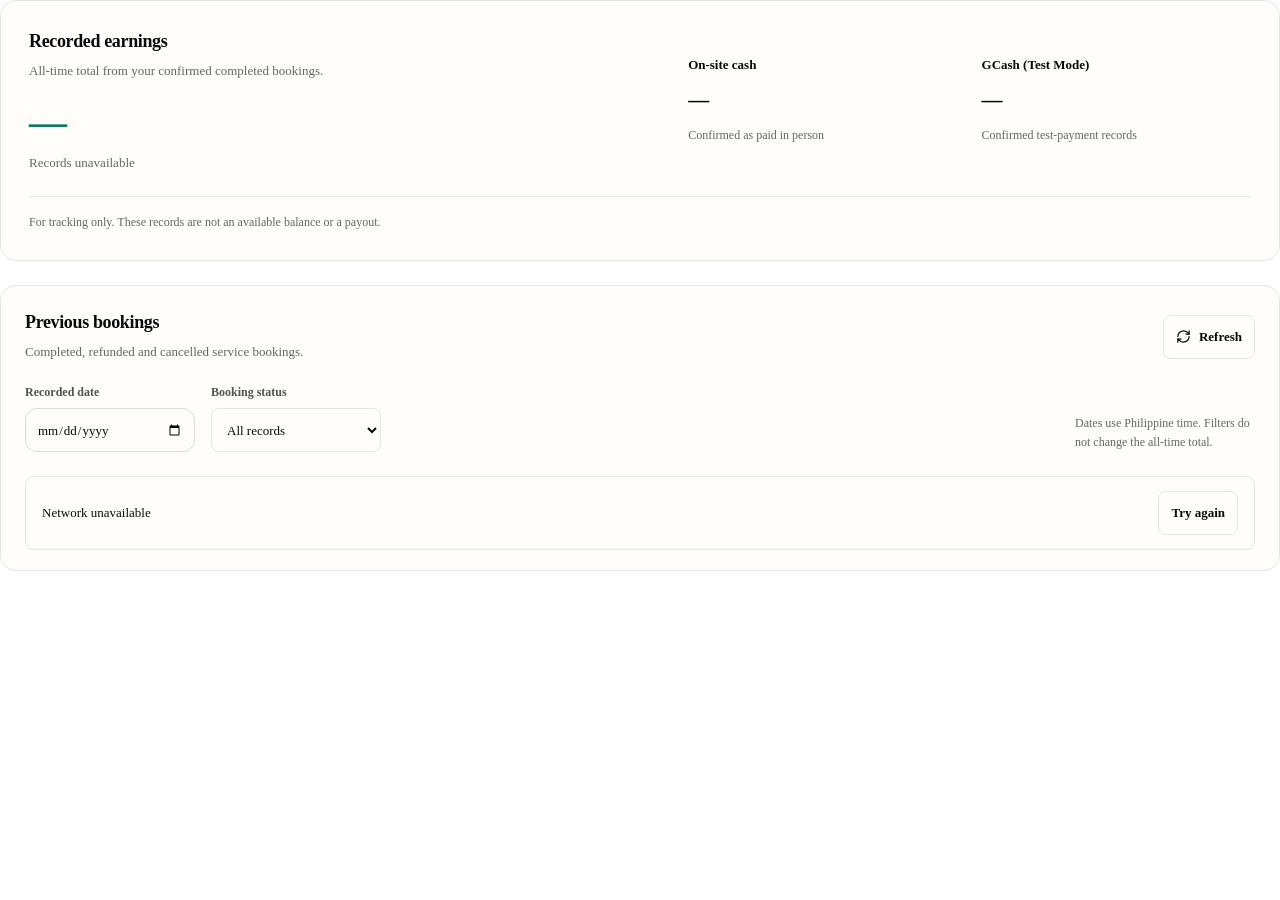
Provider payment records › reports an initial API failure and supports retry without claiming empty history
Expected: the message "Network unavailable Try again" is shown, [25, 476, 1255, 550]
Expected: the text "₱0.00" is not shown
Click the button "Try again": (1198, 513) [1158, 491, 1238, 535]
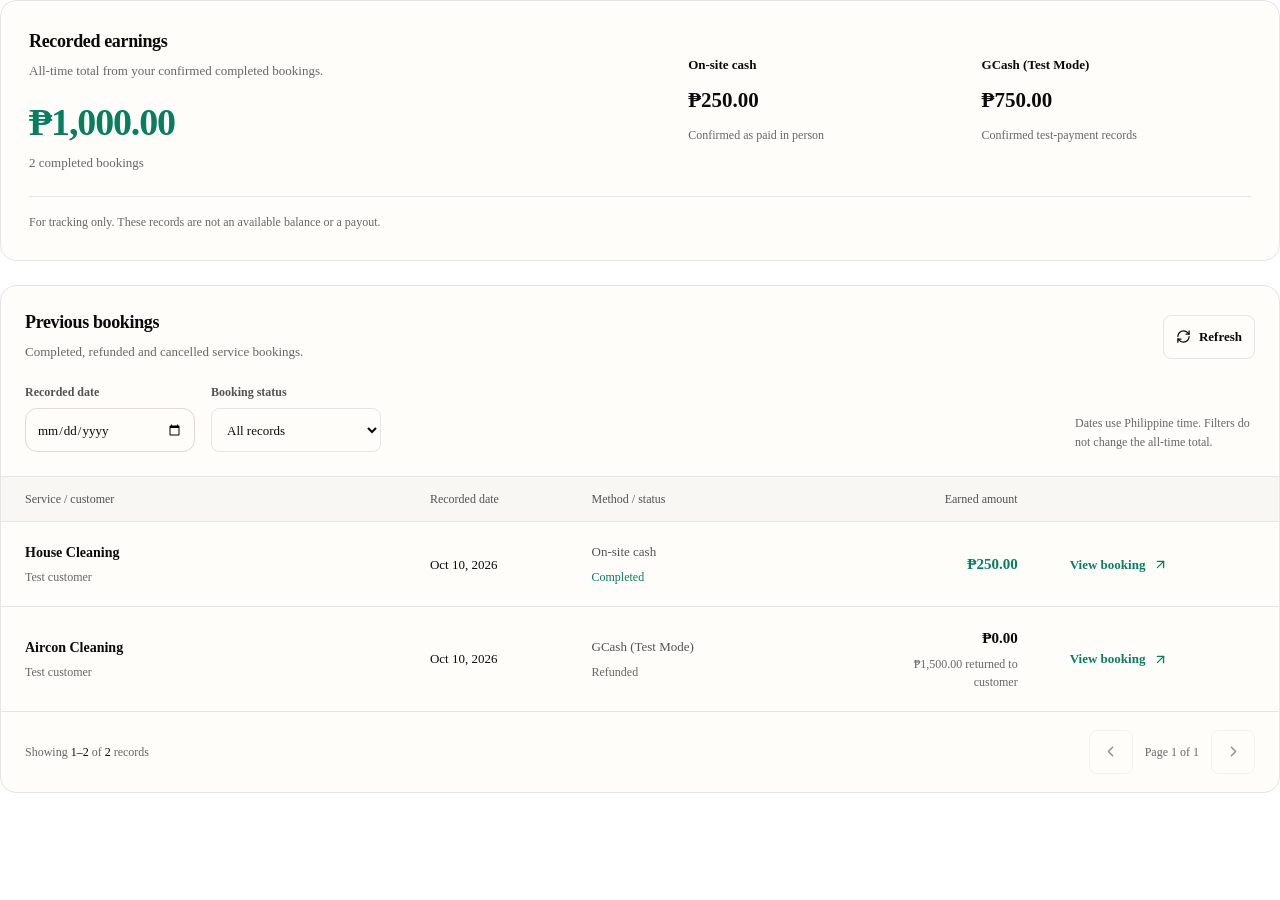
Result: the text "House Cleaning" is shown at [25, 545, 120, 560]
